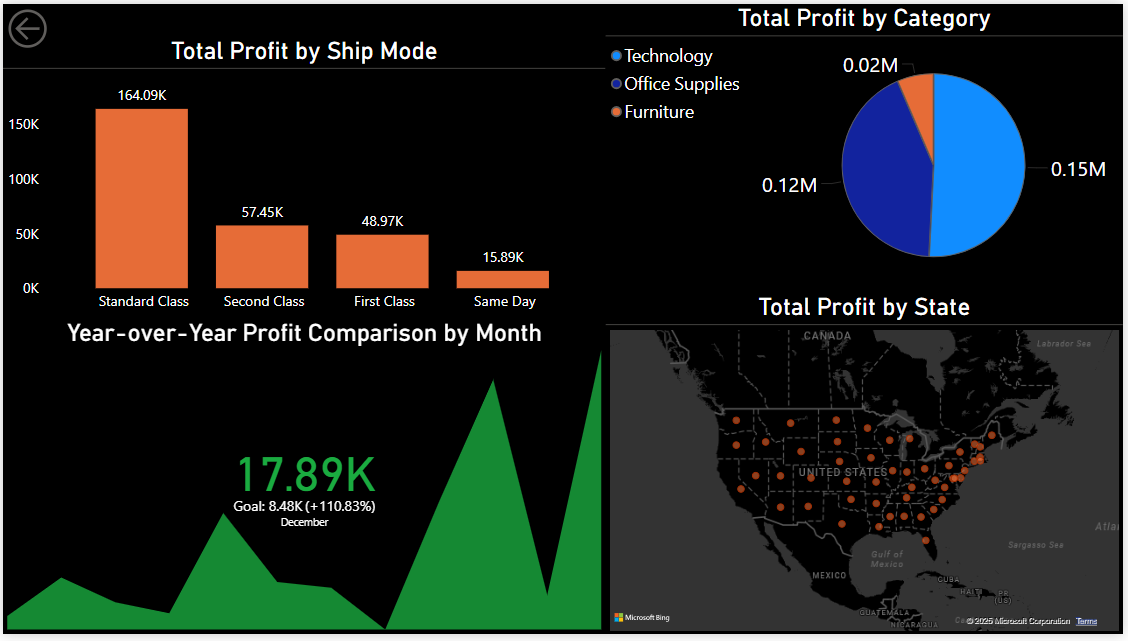

What the dashboard file says about the page in this screenshot:
{"tool":"powerbi","page":{"name":"Page 5","canvas":[1280,720],"ordinal":4},"visuals":[{"type":"columnChart","title":"Total Profit by Ship Mode","fields":{"Category":["Store.Ship Mode"],"Y":["All Measures.Total_Profit"]},"box":[0,37.5,688.8,322.5],"z":0},{"type":"pieChart","title":"Total Profit by Category","fields":{"Category":["Store.Category"],"Y":["All Measures.Total_Profit"]},"box":[688.6,0,591.4,330],"z":1000},{"type":"map","title":"Total Profit by State","fields":{"Category":["Store.State"]},"box":[688.6,330,591.4,390],"z":2000},{"type":"kpi","title":"Year-over-Year Profit Comparison by Month","fields":{"TrendLine":["calender.Date.Variation.Date Hierarchy.Month"],"Goal":["All Measures.2017 profit"],"Indicator":["All Measures.2016 profit"]},"box":[0,360,689,360],"z":3000},{"type":"actionButton","box":[0,0,56.3,56.3],"z":4000}]}

Visuals, with their boxes in screenshot pixels (x1, y1, x2, y2), scaled from the page's 1280x720 canvas onto the 1128x641 screenshot:
"Total Profit by Ship Mode" columnChart: rect(0, 33, 607, 320)
"Total Profit by Category" pieChart: rect(607, 0, 1127, 294)
"Total Profit by State" map: rect(607, 294, 1127, 640)
"Year-over-Year Profit Comparison by Month" kpi: rect(0, 320, 607, 640)
actionButton: rect(0, 0, 50, 50)
